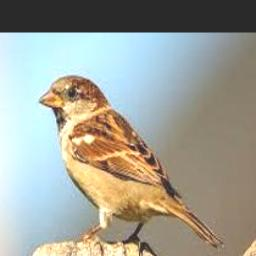Sparrow: (38, 76, 223, 248)
